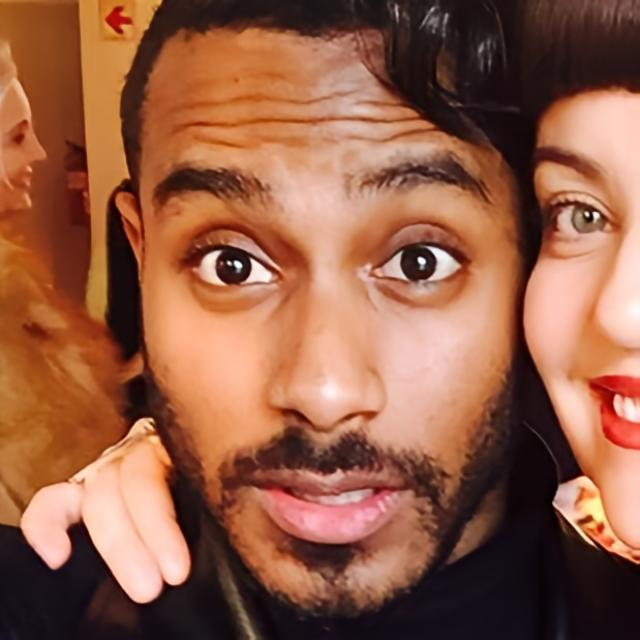happy: (524, 74, 640, 546), (0, 76, 50, 212)
surprise: (142, 23, 520, 624)
